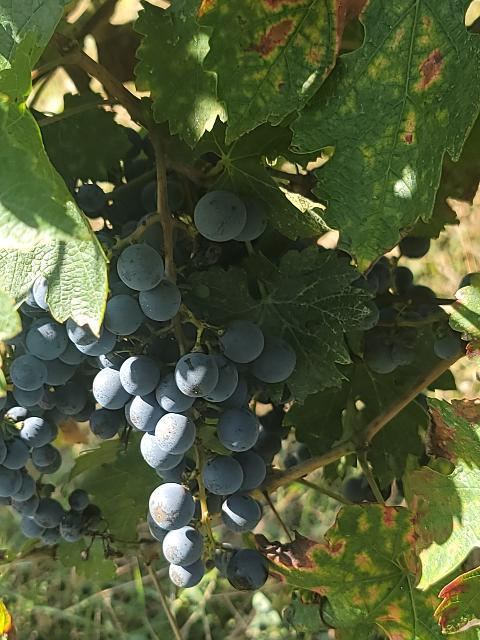grapes: (78, 244, 296, 591), (0, 318, 105, 545)
